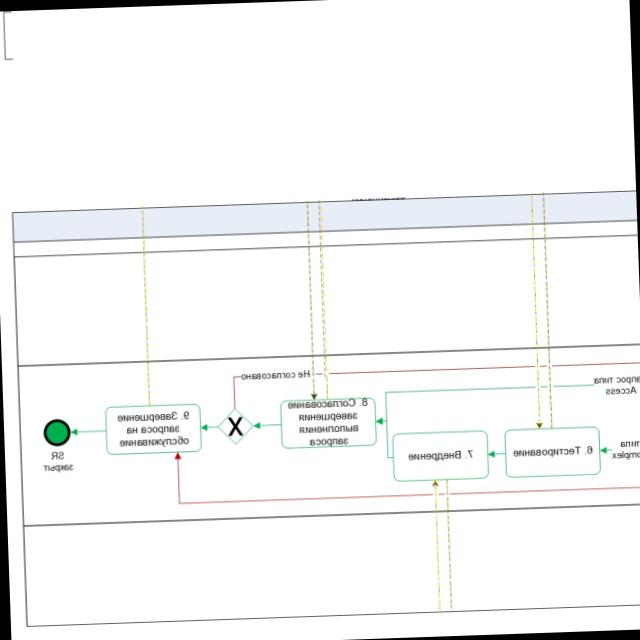arrow: (375, 417, 393, 460), (253, 418, 281, 431), (70, 426, 105, 436), (489, 449, 506, 458), (201, 423, 218, 432)
circle: (42, 418, 71, 447)
diamond: (217, 407, 254, 445)
rectangle: (504, 426, 602, 478), (392, 429, 489, 481), (280, 397, 377, 449), (105, 403, 202, 455)
text_region: (42, 450, 74, 474)
